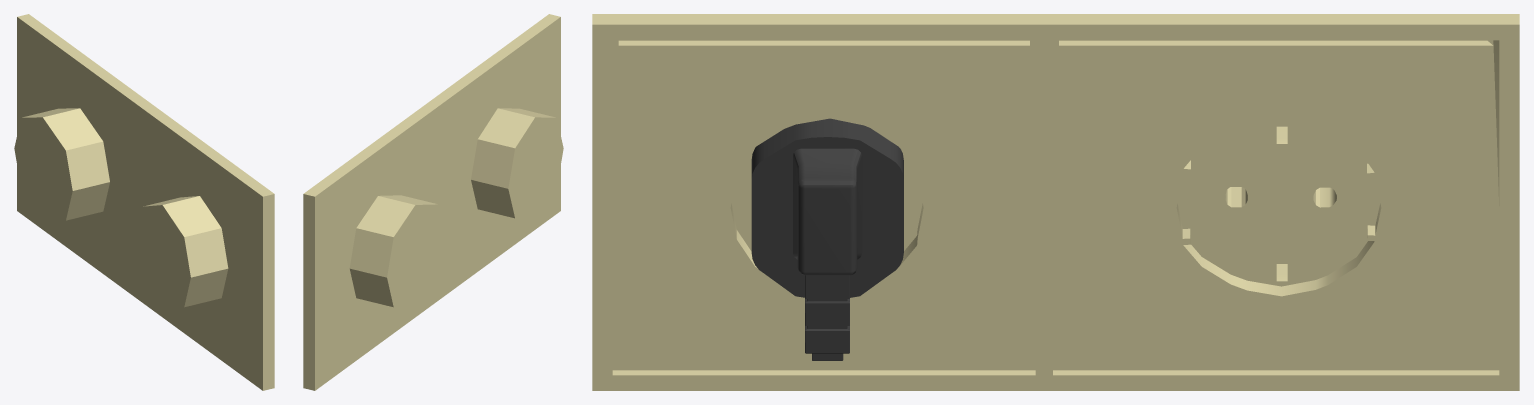
The picture shows the model from 3 angles, left to right: view 1: azimuth 30°, elevation 25°; view 2: azimuth 150°, elevation 25°; view 3: azimuth 270°, elevation 25°; orthographic projection. The views are drawn at different scales.
Visible parts, largest first — view 1: pCube5; view 2: pCube5; view 3: pCube5, pCylinder1, pCube4.
Part boxes in pixels (<box>): pCube5: <box>14,14,274,390</box>; pCube5: <box>303,14,563,390</box>; pCube5: <box>592,14,1519,390</box>; pCylinder1: <box>751,118,903,297</box>; pCube4: <box>793,148,862,360</box>.
Bounding box in the file's own units: 21.75 × 45.77 × 105.
